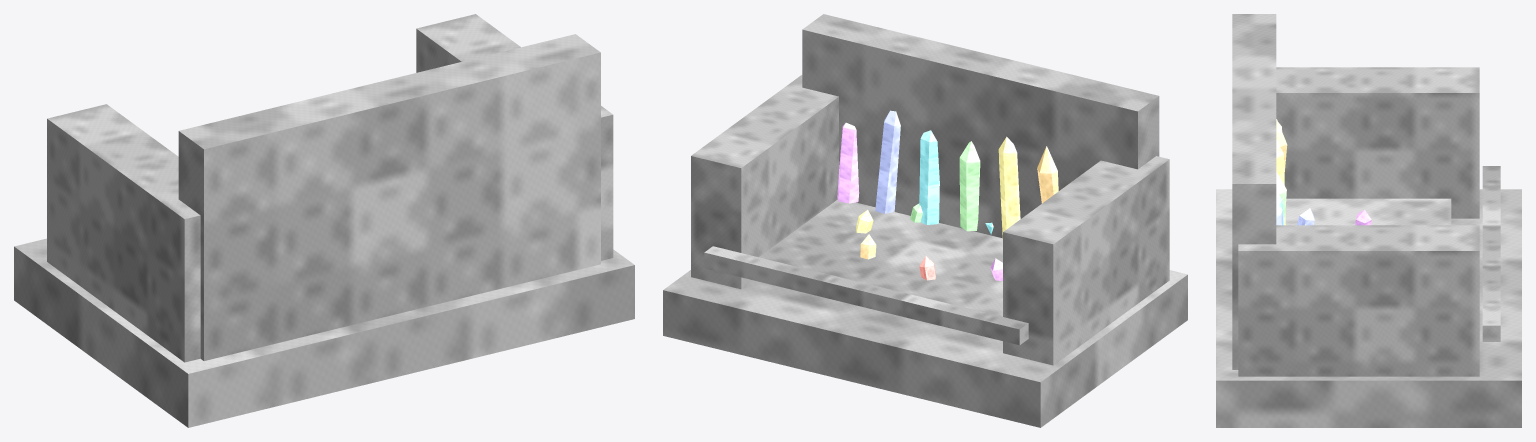
Rendered from architecture-crystal-hearth.glb.
The picture shows the model from 3 angles, left to right: view 1: azimuth 30°, elevation 25°; view 2: azimuth 150°, elevation 25°; view 3: azimuth 270°, elevation 25°; orthographic projection. The views are drawn at different scales.
Parts seen in each view (by area): view 1: back, base, left-cheek, right-cheek; view 2: back, base, left-cheek, right-cheek, fire-bed, front-band, rainbow-crystal-5, rainbow-crystal-4, rainbow-crystal-3, rainbow-crystal-2, rainbow-crystal-6, rainbow-crystal-1; view 3: right-cheek, left-cheek, base, back, fire-bed, front-band, rainbow-crystal-2.
Part boxes in pixels (box(x1,y1,x2,y2)): back: box(178, 34, 600, 360); base: box(14, 238, 634, 427); left-cheek: box(47, 104, 200, 362); right-cheek: box(416, 14, 613, 260); back: box(802, 14, 1159, 238); base: box(663, 270, 1187, 427); left-cheek: box(1003, 156, 1169, 365); right-cheek: box(691, 75, 838, 289); fire-bed: box(759, 199, 1002, 316); front-band: box(704, 246, 1028, 345); rainbow-crystal-5: box(875, 110, 900, 213); rainbow-crystal-4: box(919, 130, 939, 224); rainbow-crystal-3: box(959, 141, 980, 231); rainbow-crystal-2: box(998, 136, 1020, 239); rainbow-crystal-6: box(837, 122, 859, 203); rainbow-crystal-1: box(1037, 146, 1058, 203); right-cheek: box(1238, 225, 1479, 376); left-cheek: box(1276, 67, 1479, 218); base: box(1216, 189, 1521, 427); back: box(1232, 14, 1276, 369); fire-bed: box(1285, 198, 1451, 225); front-band: box(1482, 166, 1500, 341); rainbow-crystal-2: box(1276, 140, 1285, 225).
Size of the model in its own units: 2.25 by 1.28 by 1.52.
Materials: 10 (10 with a texture image).
